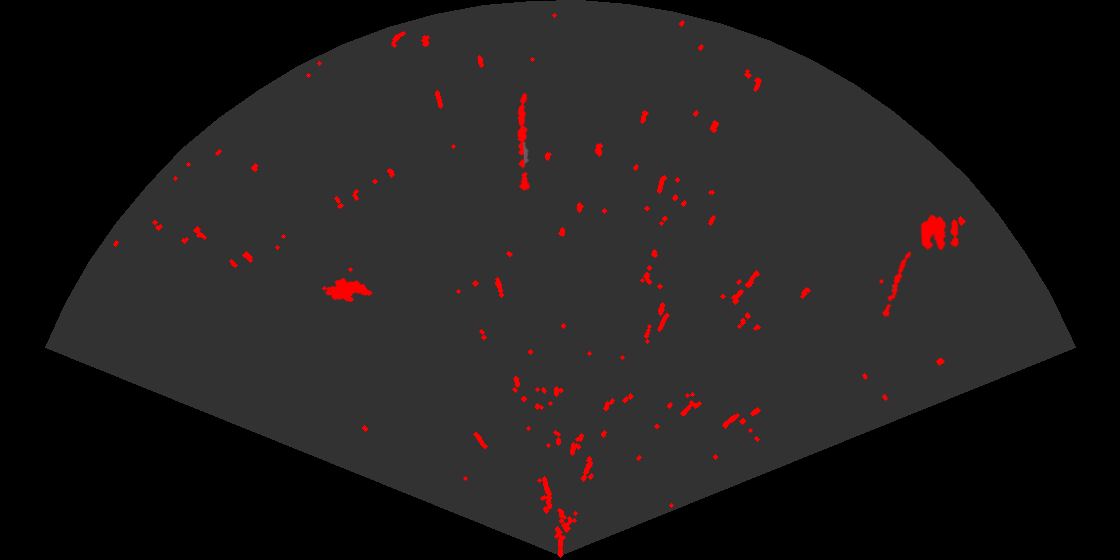AUV: (324, 276, 374, 303)
ball: (919, 213, 961, 252)
chain: (881, 249, 913, 319), (516, 91, 531, 192)
